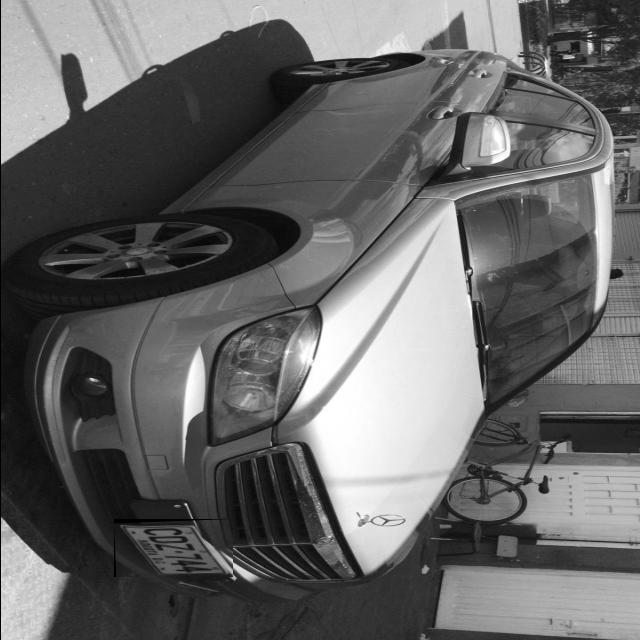plate: (113, 523, 232, 577)
